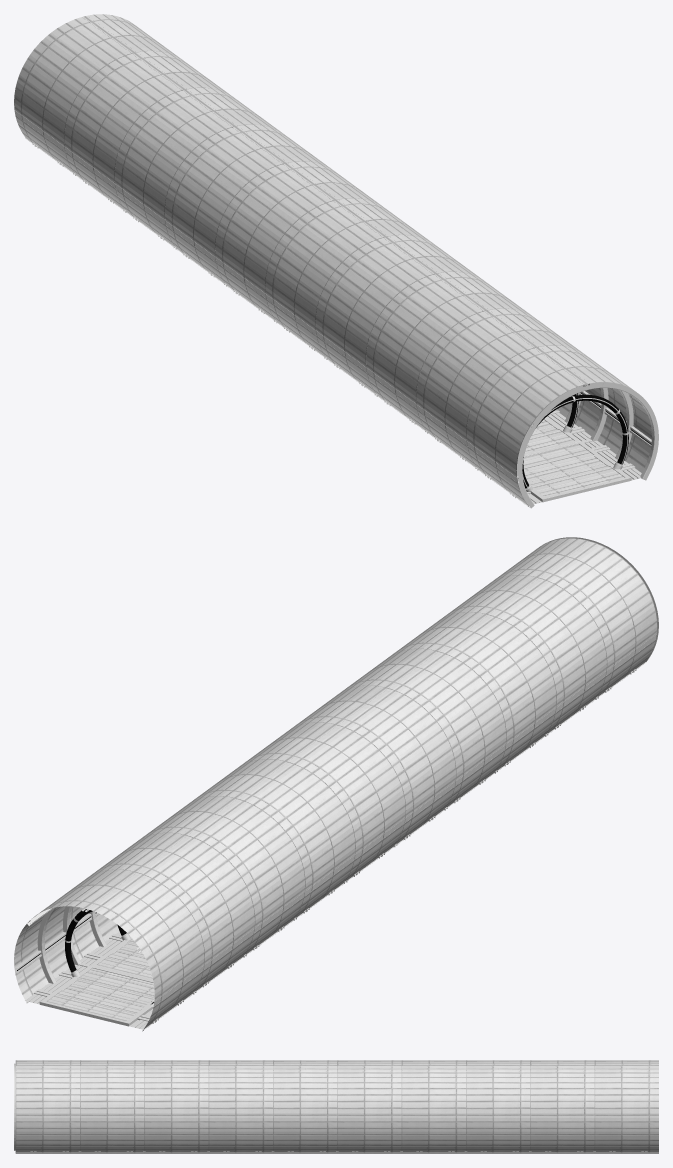
File: Future Tunnel.fbx
3 views of the same model, one above another, from view 1: azimuth 30°, elevation 25°; view 2: azimuth 150°, elevation 25°; view 3: azimuth 270°, elevation 25° (orthographic). The views are drawn at different scales.
Visible parts, largest first — view 1: Tunnel.Shape, TunnelFloor.Shape, TubeLights.Shape; view 2: Tunnel.Shape, TunnelFloor.Shape; view 3: Tunnel.Shape, TunnelFloor.Shape.
Boxes of the visible parts, x1,y1,x2,y2 form: Tunnel.Shape: (14, 14, 658, 508); TunnelFloor.Shape: (25, 138, 641, 505); TubeLights.Shape: (522, 393, 628, 491); Tunnel.Shape: (14, 537, 658, 1031); TunnelFloor.Shape: (25, 662, 646, 1029); Tunnel.Shape: (14, 1060, 658, 1153); TunnelFloor.Shape: (16, 1151, 658, 1152).
Size of the model in its own units: 474 by 351 by 2938.
Materials: 7 (5 with a texture image).
